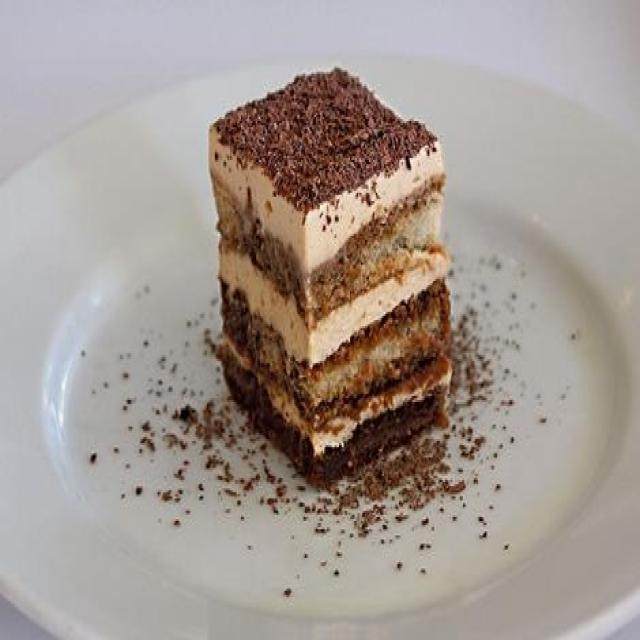蛋糕甜品: (26, 31, 619, 609)
